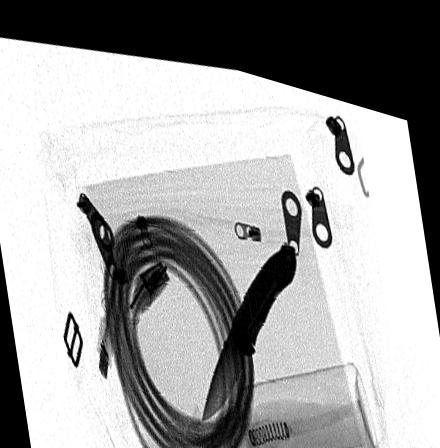Knife: (201, 225, 298, 409)
